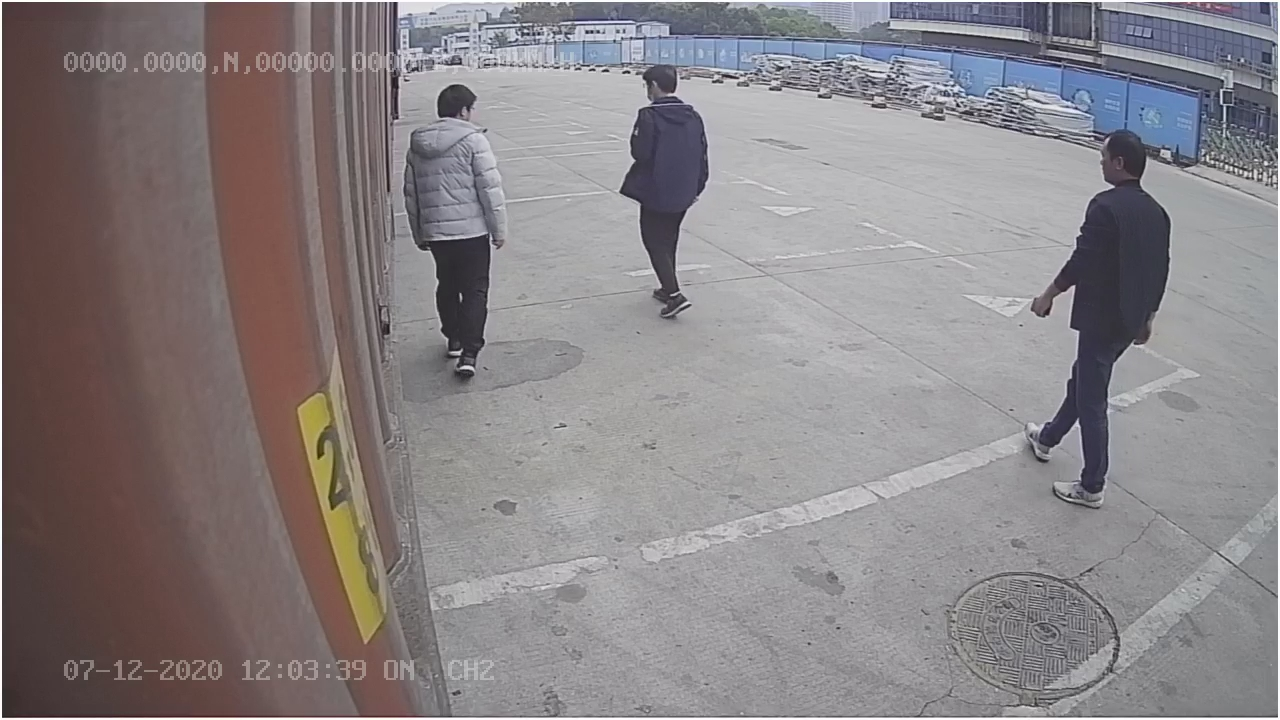person: (1024, 127, 1176, 506), (402, 79, 513, 383), (609, 63, 719, 319)
